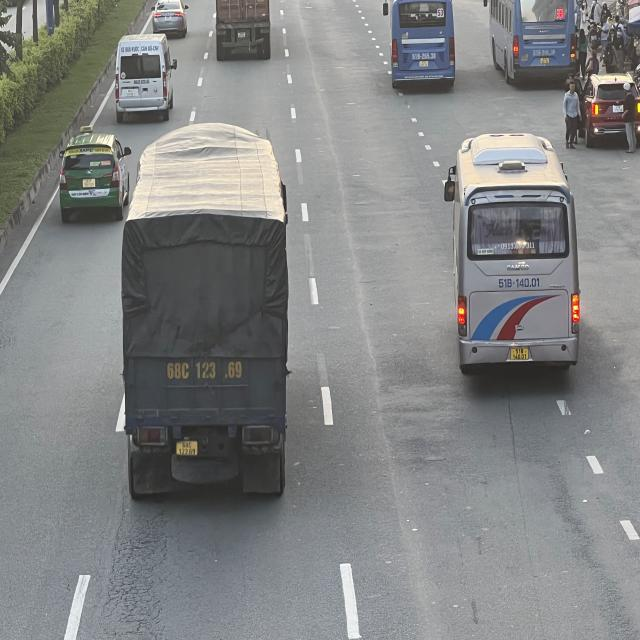car: (58, 130, 131, 216), (153, 0, 189, 38)
coach: (448, 139, 584, 382), (487, 2, 582, 86), (388, 0, 458, 88)
container: (216, 0, 270, 58)
truck: (116, 120, 286, 497)
van: (115, 35, 177, 121)
